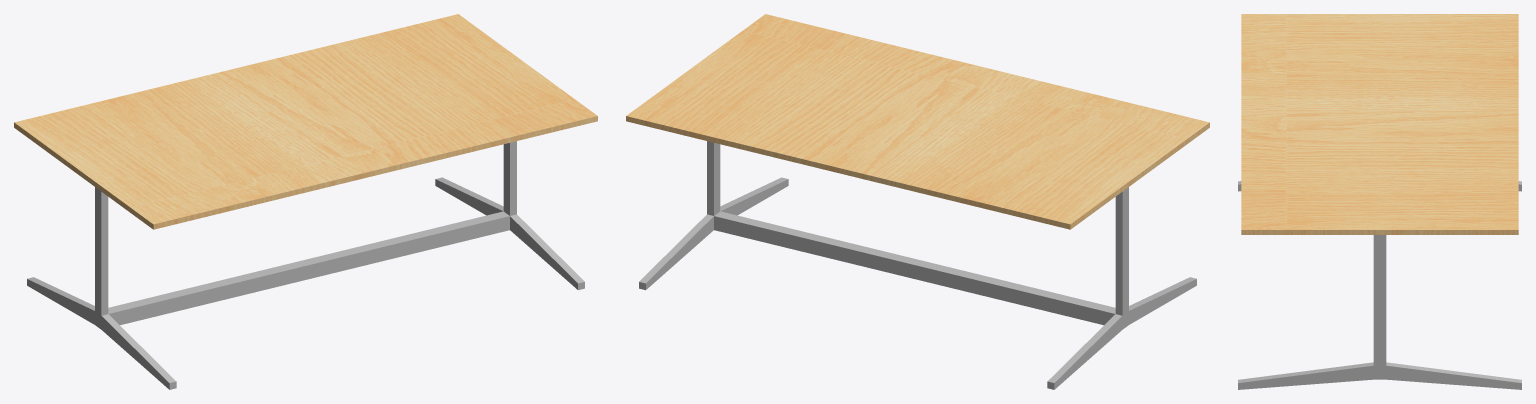
File: bigWoodTable.fbx
3 renders of one model, left to right at view 1: azimuth 30°, elevation 25°; view 2: azimuth 150°, elevation 25°; view 3: azimuth 270°, elevation 25°, orthographic.
Parts seen in each view (by area): view 1: MSH_table2; view 2: MSH_table2; view 3: MSH_table2.
Boxes of the visible parts, left/top/right/bottom form: MSH_table2: left=14, top=14, right=597, bottom=389; MSH_table2: left=626, top=14, right=1209, bottom=389; MSH_table2: left=1238, top=14, right=1521, bottom=389.
Bounding box in the file's own units: 13.1 × 4.73 × 7.28.
